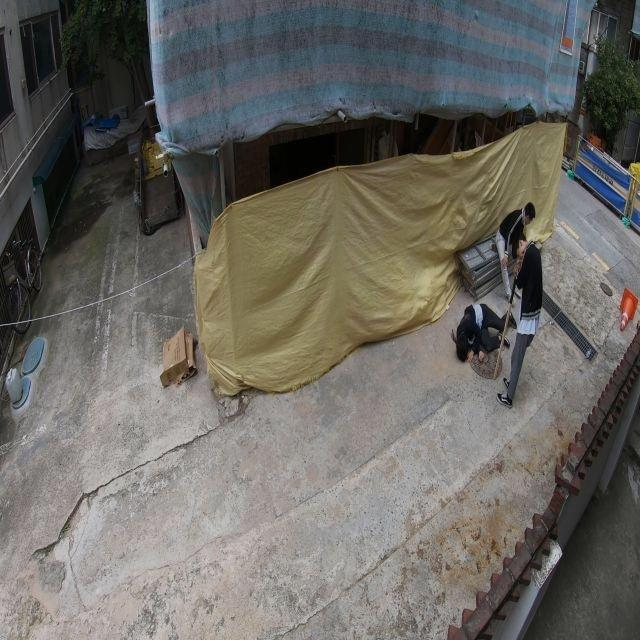fight: (448, 232, 543, 408)
non-fight: (496, 204, 534, 303)
